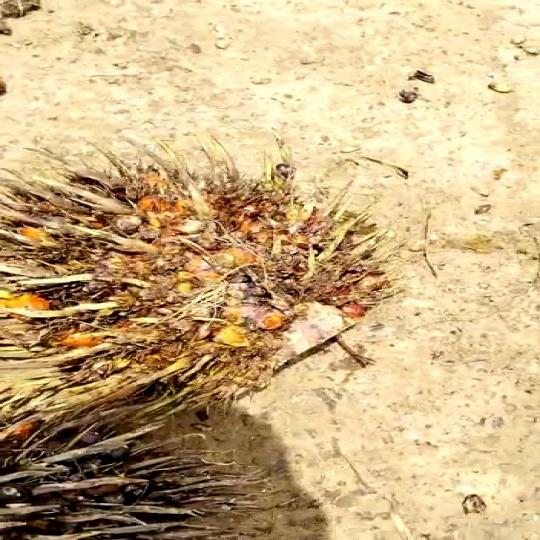terlalu masak: (0, 142, 409, 390)
